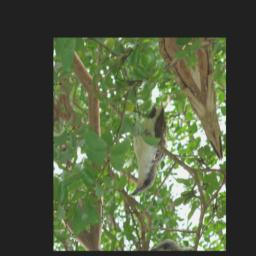Cuckoo: (111, 99, 184, 199)
